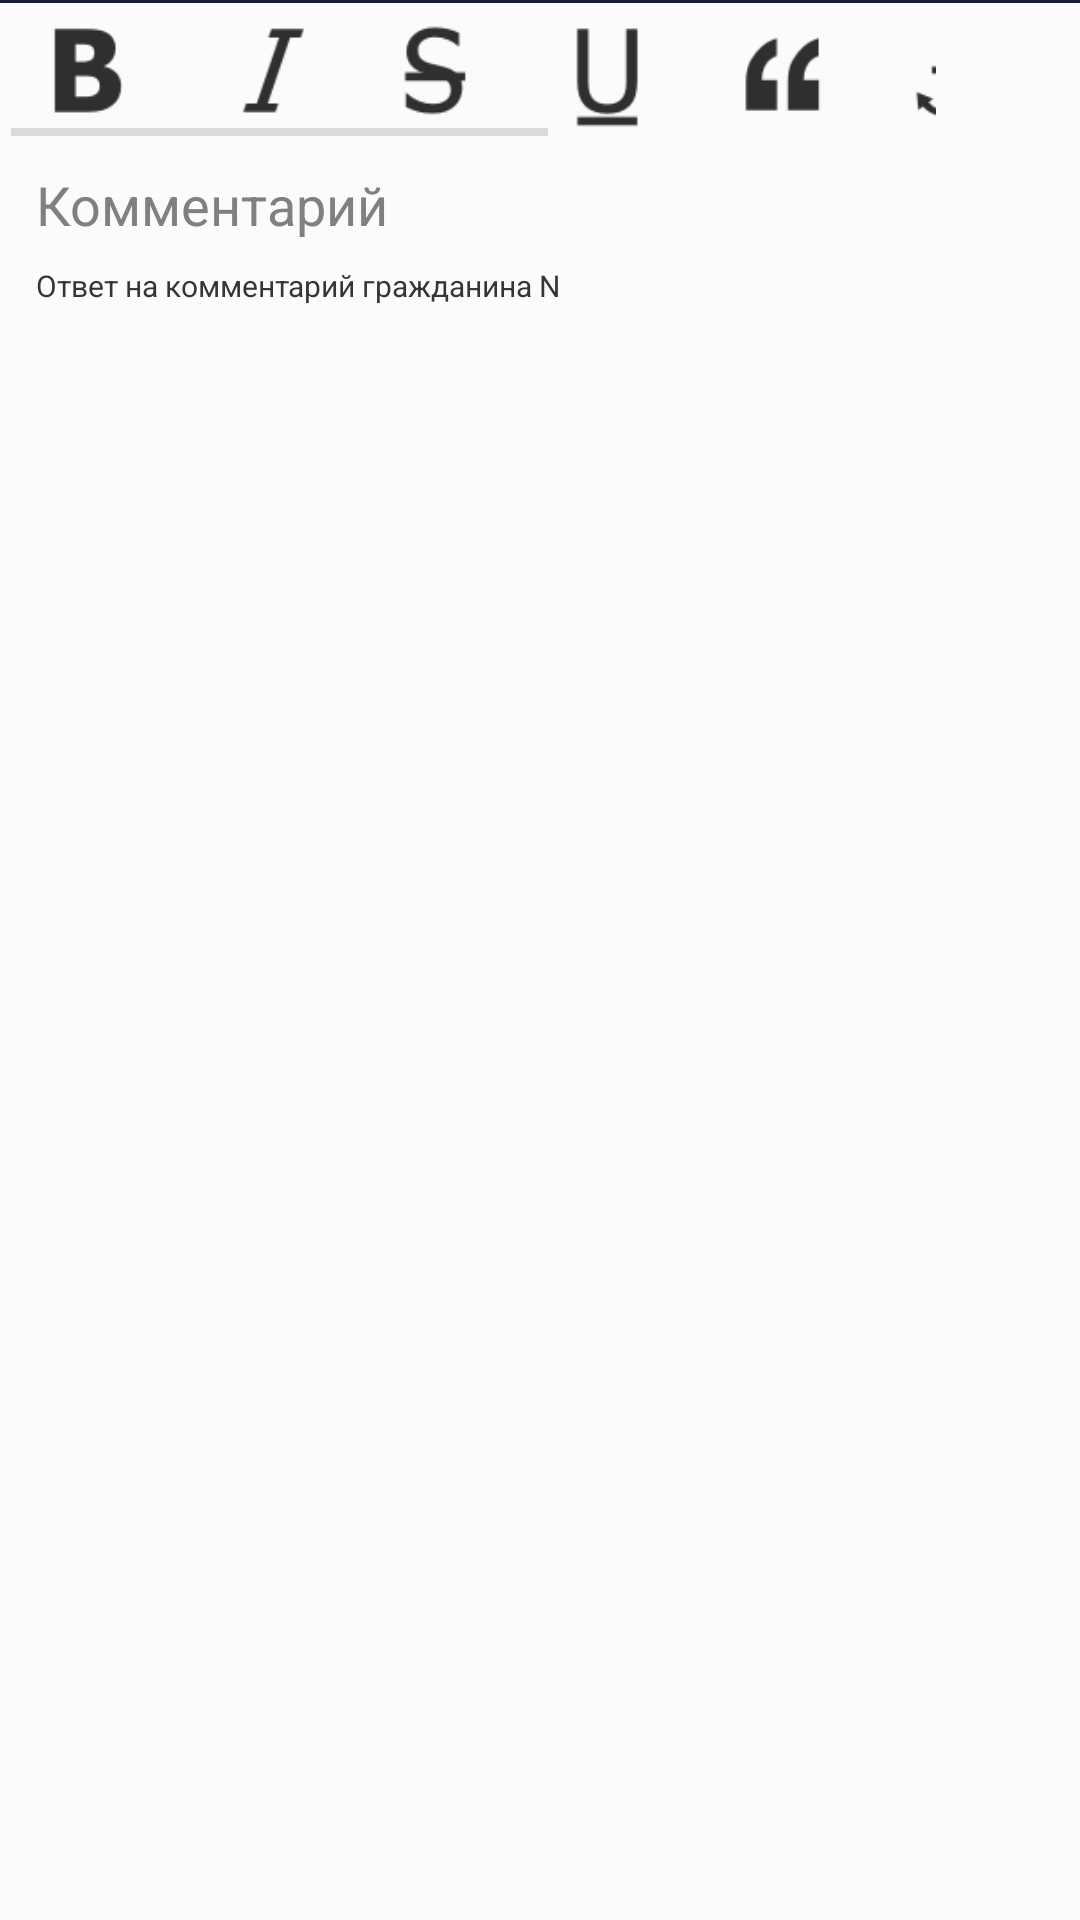

Where icons sit on this 1080×1920 app screen, as [x1=x1, y1=y1, x2=x2, y2=y2]:
italic: [x1=243, y1=28, x2=304, y2=113]
quote: [x1=745, y1=37, x2=820, y2=111]
strike: [x1=404, y1=26, x2=466, y2=115]
underlined: [x1=576, y1=28, x2=638, y2=127]
